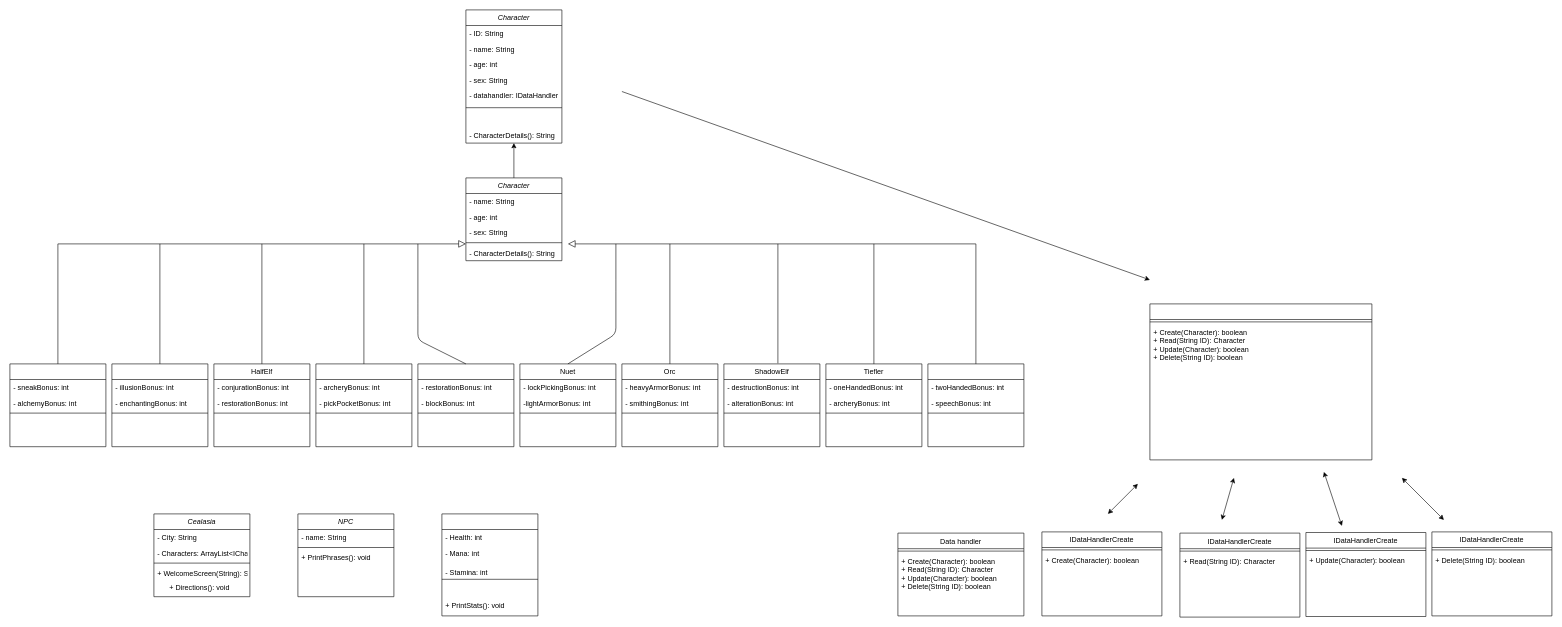
This 1562x627 diagram has some shape labels left out. Each missing label, with the box of its shape:
BaseStats: (441, 513, 538, 616)
DemiHuman: (9, 363, 106, 447)
Elf: (111, 363, 208, 447)
Halfling: (315, 363, 412, 447)
Human: (417, 363, 514, 447)
IDataHandler: (1149, 303, 1372, 460)
Viking: (927, 363, 1024, 447)
